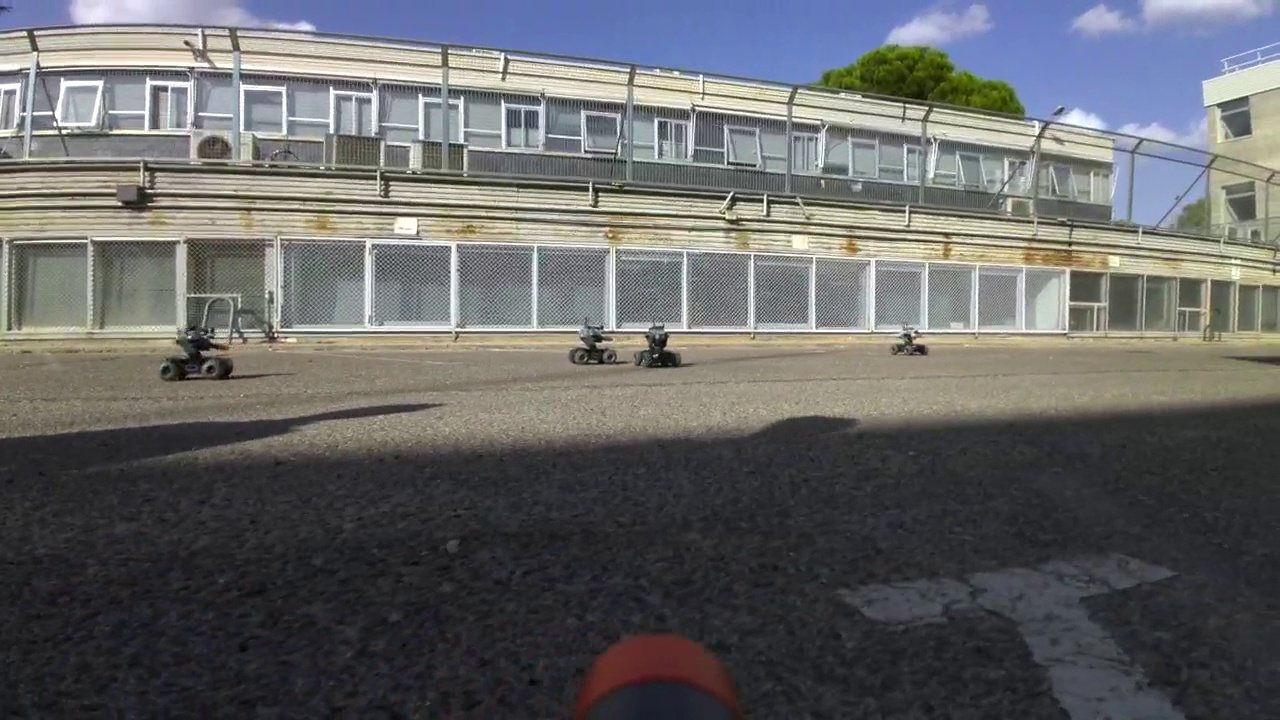robot: (160, 323, 233, 382), (569, 314, 619, 367), (634, 316, 682, 371), (895, 321, 926, 361)
